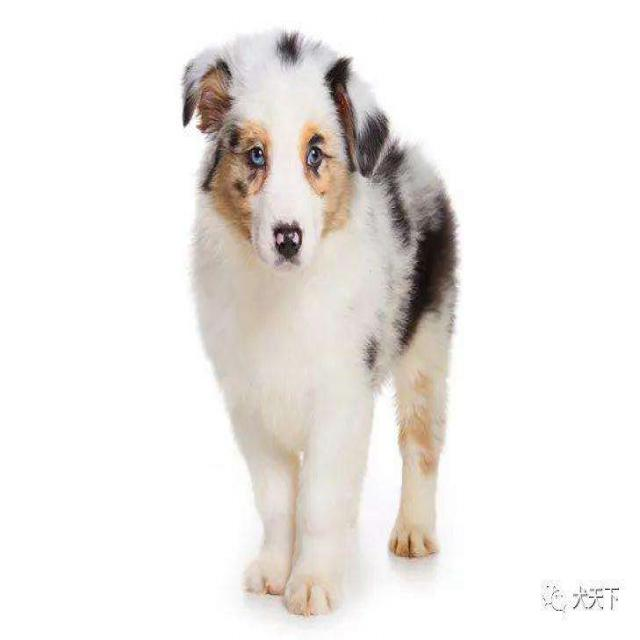eye: (304, 141, 326, 171), (248, 143, 267, 171)
